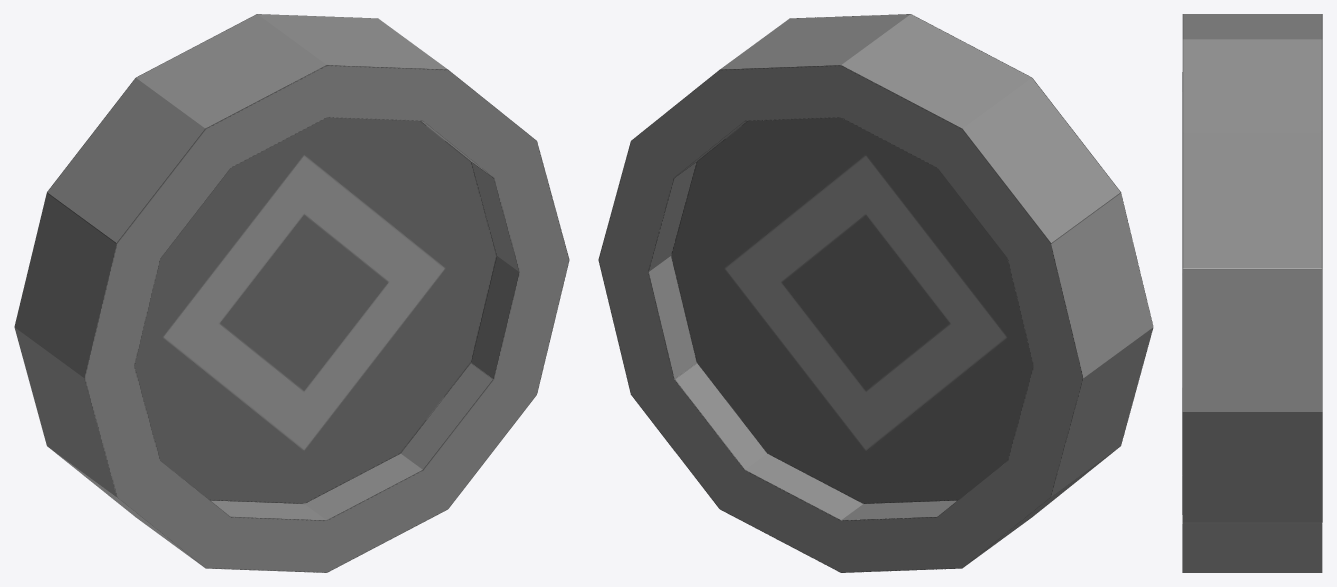
Rendered from Coin_silver.fbx.
3 views of the same model, side by side, from view 1: azimuth 30°, elevation 25°; view 2: azimuth 150°, elevation 25°; view 3: azimuth 270°, elevation 25° (orthographic).
Visible parts, largest first — view 1: pCylinder1; view 2: pCylinder1; view 3: pCylinder1.
Part boxes in pixels (x1,y1,x2,y2): pCylinder1: (14, 14, 569, 572); pCylinder1: (598, 14, 1153, 572); pCylinder1: (1182, 14, 1322, 572).
Bounding box in the file's own units: 0.02 × 0.02 × 0.005.
Materials: 2 (2 with a texture image).
